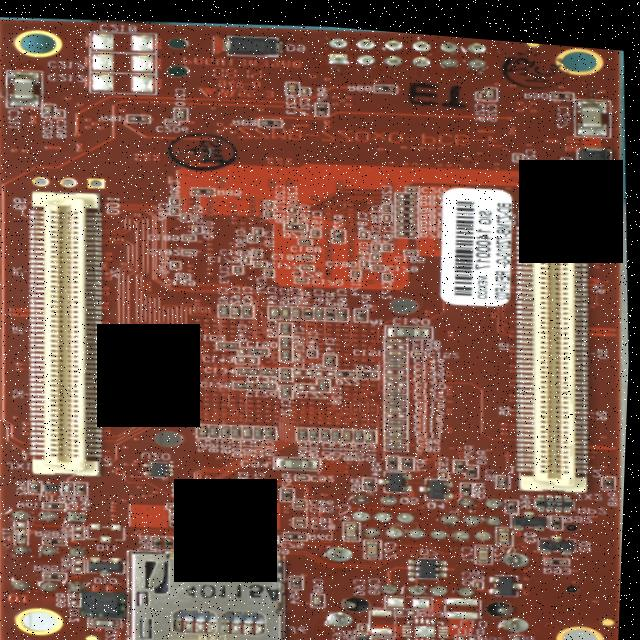-component text- -311 325 B330A-: (233, 32, 269, 48), (582, 141, 606, 162)
-component text- 000: (364, 629, 372, 637)
-component text- 161728: (91, 590, 121, 600)
-component text- 40115A: (188, 573, 288, 601)
-component text- 472: (548, 490, 568, 497)
-component text- MXJ: (200, 628, 235, 640)
-resistor jumper- JT7: (20, 520, 32, 543)
-resistor network- RP2: (537, 482, 579, 504)
2137: (291, 637, 314, 640)
2157: (361, 623, 375, 640)
2161: (517, 626, 528, 638)
2182: (297, 571, 306, 583)
2183: (48, 571, 70, 578)
2185: (156, 534, 167, 546)
2186: (167, 534, 178, 545)
2187: (49, 535, 70, 543)
2188: (259, 530, 270, 541)
2190: (290, 527, 310, 535)
2191: (48, 500, 69, 508)
2192: (32, 479, 46, 492)
2193: (66, 480, 78, 493)
2194: (80, 482, 89, 493)
2195: (368, 470, 379, 483)
2196: (511, 491, 521, 503)
2197: (286, 482, 298, 495)
2198: (606, 465, 619, 478)
2199: (469, 456, 481, 469)
2201: (459, 452, 470, 464)
2202: (405, 450, 417, 461)
2203: (340, 364, 359, 371)
2204: (360, 365, 381, 372)
2205: (306, 302, 316, 314)
2206: (329, 303, 338, 314)
2207: (357, 302, 368, 315)
2208: (334, 223, 346, 237)
2209: (399, 223, 418, 230)
2210: (288, 217, 308, 226)
2212: (399, 216, 418, 224)
2213: (398, 210, 418, 217)
2214: (398, 204, 419, 211)
2215: (399, 198, 419, 205)
2216: (398, 192, 418, 199)
2217: (194, 183, 215, 192)
2218: (398, 185, 418, 193)
2219: (318, 98, 328, 110)
2220: (377, 77, 397, 86)
2221: (261, 114, 281, 121)
2223: (552, 82, 573, 90)
2224: (130, 112, 148, 119)
2225: (556, 506, 566, 519)
2226: (550, 548, 573, 556)
2227: (392, 449, 401, 461)
2228: (465, 475, 476, 487)
2301: (217, 72, 265, 86)
2303: (507, 45, 563, 78)
2389: (176, 132, 230, 163)
2558: (472, 190, 520, 293)
2563: (238, 82, 278, 95)
2621: (237, 107, 507, 154)
2639: (11, 591, 35, 604)
2643: (212, 59, 267, 78)
2644: (511, 455, 521, 465), (23, 450, 33, 460)
2646: (105, 193, 123, 215), (589, 199, 607, 220)
2700: (105, 454, 118, 465), (595, 457, 607, 467)
2718: (501, 395, 515, 407), (15, 387, 28, 399)
2721: (596, 398, 613, 410), (111, 388, 125, 401)
2757: (599, 337, 613, 349), (110, 329, 124, 341)
2758: (13, 324, 28, 334), (500, 332, 513, 342)
2770: (14, 263, 27, 276)
2771: (594, 273, 609, 284), (112, 265, 125, 276)
2790: (13, 195, 31, 210)
2793: (372, 311, 387, 319)
2846: (234, 433, 247, 453)
2847: (245, 434, 258, 452)
2848: (256, 434, 270, 454)
2849: (267, 434, 280, 452)
2850: (300, 434, 313, 452)
2851: (311, 435, 323, 452)
2852: (324, 435, 337, 455)
2853: (335, 435, 347, 455)
2854: (346, 437, 358, 455)
2855: (356, 436, 370, 455)
2857: (368, 436, 382, 456)
2858: (418, 423, 447, 431)
2859: (416, 416, 448, 426)
2860: (416, 410, 448, 420)
2861: (135, 404, 166, 414)
2862: (417, 404, 449, 414)
2863: (133, 398, 166, 408)
2864: (417, 398, 450, 408)
2865: (133, 392, 165, 402)
2866: (417, 391, 449, 401)
2868: (133, 385, 166, 395)
2869: (283, 393, 296, 411)
2870: (418, 384, 451, 395)
2871: (133, 378, 165, 388)
2872: (417, 378, 449, 388)
2873: (203, 376, 235, 386), (487, 93, 500, 114)
2874: (249, 384, 281, 394), (474, 93, 488, 114)
2875: (299, 384, 331, 395)
2876: (334, 379, 347, 399)
2877: (132, 372, 165, 382)
2879: (418, 372, 450, 382)
2880: (132, 366, 163, 376)
2882: (417, 366, 449, 376)
2883: (207, 361, 239, 371)
2884: (249, 369, 282, 379)
2885: (297, 356, 325, 364)
2887: (132, 359, 165, 369)
2888: (416, 360, 448, 370)
2890: (130, 352, 165, 362)
2891: (326, 330, 339, 348)
2892: (416, 354, 448, 364)
2893: (205, 350, 237, 360)
2894: (132, 346, 166, 356)
2895: (296, 338, 310, 357)
2896: (416, 348, 449, 358)
2897: (129, 339, 163, 350)
2898: (238, 318, 252, 338)
2899: (309, 324, 323, 344)
2901: (248, 334, 281, 344)
2902: (355, 340, 385, 351)
2903: (431, 342, 463, 352)
2904: (197, 328, 229, 338)
2905: (129, 332, 164, 343)
2906: (296, 320, 310, 339)
2907: (414, 335, 445, 345)
2908: (130, 325, 164, 336)
2909: (415, 330, 445, 340)
2910: (268, 314, 281, 334)
2912: (396, 308, 434, 319)
2913: (218, 282, 232, 299)
2914: (231, 280, 244, 300)
2915: (243, 280, 257, 300)
2916: (268, 280, 281, 300)
2917: (280, 280, 294, 300)
2918: (292, 280, 304, 300)
2919: (314, 282, 328, 301)
2920: (338, 281, 351, 301)
2921: (166, 274, 199, 284)
2923: (313, 270, 347, 281)
2924: (257, 271, 270, 289)
2925: (383, 274, 396, 293)
2926: (220, 260, 233, 280)
2927: (351, 271, 365, 291)
2928: (159, 252, 172, 272)
2929: (293, 263, 326, 273)
2930: (271, 255, 302, 265)
2931: (390, 255, 422, 266)
2932: (209, 250, 242, 260)
2934: (327, 253, 359, 263)
2935: (273, 246, 301, 255)
2936: (151, 243, 183, 254)
2937: (222, 243, 253, 253)
2938: (359, 234, 372, 254)
2939: (395, 246, 429, 257)
2940: (371, 217, 385, 237)
2941: (384, 216, 396, 236)
2942: (292, 238, 325, 249)
2943: (148, 229, 182, 239)
2945: (236, 224, 249, 243)
2946: (265, 225, 278, 243)
2947: (204, 216, 217, 236)
2948: (313, 204, 326, 224)
2949: (357, 204, 371, 224)
2950: (193, 200, 206, 220)
2951: (300, 197, 314, 217)
2952: (158, 198, 171, 218)
2953: (277, 199, 288, 218)
2954: (372, 198, 383, 217)
2956: (422, 178, 448, 186)
2957: (288, 180, 301, 201)
2958: (170, 176, 183, 195)
2959: (275, 178, 289, 200)
2960: (382, 177, 396, 198)
2962: (525, 138, 539, 160)
2963: (157, 120, 191, 131)
2964: (556, 94, 573, 120)
2965: (56, 117, 70, 138)
2966: (42, 117, 56, 139)
2968: (175, 83, 188, 104)
2969: (7, 108, 23, 130)
2970: (47, 70, 87, 83)
2971: (285, 90, 299, 110)
2972: (299, 90, 312, 111)
2975: (48, 57, 87, 70)
2976: (99, 19, 139, 31)
2980: (109, 625, 123, 640)
3205: (376, 637, 403, 640)
3206: (356, 570, 372, 589)
3207: (335, 620, 349, 636)
3208: (316, 571, 330, 588)
3209: (371, 569, 387, 589)
3211: (465, 561, 478, 577)
3212: (464, 536, 479, 554)
3213: (387, 533, 403, 553)
3214: (223, 529, 236, 546)
3215: (239, 541, 265, 549)
3216: (284, 534, 311, 544)
3217: (341, 496, 357, 515)
3218: (498, 537, 512, 553)
3219: (315, 516, 341, 524)
3220: (210, 519, 236, 528)
3222: (174, 517, 198, 525)
3223: (314, 509, 338, 518)
3224: (189, 504, 211, 512)
3225: (211, 497, 237, 506)
3226: (185, 497, 210, 506)
3227: (313, 498, 339, 508)
3228: (313, 492, 339, 501)
3229: (219, 474, 233, 490)
3230: (240, 466, 254, 482)
3231: (174, 479, 187, 495)
3233: (257, 466, 270, 482)
3234: (487, 459, 500, 473)
3235: (314, 467, 340, 477)
3236: (440, 447, 453, 463)
3237: (244, 452, 274, 464)
3238: (419, 436, 446, 445)
3239: (419, 429, 445, 438)
3240: (201, 433, 212, 449)
3241: (211, 433, 224, 449)
3242: (223, 434, 236, 450)
3270: (98, 573, 124, 583)
3271: (100, 540, 124, 550)
3272: (72, 605, 86, 621)
3291: (477, 559, 490, 572)
3292: (423, 538, 445, 548)
3293: (559, 145, 575, 159)
3294: (285, 37, 307, 47)
3356: (406, 70, 470, 105)
3497: (5, 524, 19, 540)
3515: (291, 619, 314, 629)
3552: (7, 459, 36, 470)
3553: (577, 480, 608, 492)
3562: (463, 608, 494, 620)
3689: (182, 46, 305, 70)
3755: (581, 529, 597, 543)
3756: (527, 521, 542, 534)
3757: (430, 491, 452, 502)
3758: (405, 488, 425, 498)
4103: (317, 636, 343, 640)
4123: (347, 622, 360, 638)
4128: (529, 626, 543, 639)
4137: (486, 625, 512, 635)
4145: (425, 601, 449, 610)
4151: (291, 583, 307, 599)
4152: (38, 561, 64, 571)
4153: (141, 531, 155, 547)
4154: (180, 533, 194, 548)
4155: (40, 528, 64, 536)
4156: (269, 541, 295, 550)
4158: (313, 526, 338, 535)
4159: (21, 499, 43, 509)
4160: (18, 479, 32, 495)
4161: (70, 493, 84, 509)
4162: (83, 493, 97, 510)
4163: (353, 471, 366, 487)
4164: (523, 483, 536, 501)
4165: (284, 467, 297, 482)
4166: (609, 479, 623, 495)
4167: (479, 440, 493, 457)
4169: (466, 436, 479, 451)
4170: (418, 450, 432, 464)
4171: (339, 371, 364, 380)
4172: (358, 356, 384, 365)
4173: (303, 284, 315, 300)
4174: (326, 285, 340, 301)
4175: (362, 286, 376, 302)
4176: (334, 207, 348, 223)
4177: (423, 222, 447, 231)
4178: (285, 225, 311, 233)
4180: (422, 216, 447, 225)
4181: (422, 210, 444, 219)
4182: (422, 204, 446, 212)
4183: (422, 198, 446, 206)
4184: (422, 191, 446, 199)
4185: (218, 183, 245, 193)
4186: (422, 185, 446, 193)
4187: (316, 80, 331, 96)
4188: (348, 77, 373, 87)
4189: (233, 114, 259, 122)
4191: (523, 81, 550, 90)
4192: (101, 112, 123, 120)
4193: (568, 502, 598, 514)
4194: (546, 554, 577, 566)
4195: (373, 453, 387, 470)
4196: (477, 472, 492, 491)
4198: (64, 555, 78, 570)
4199: (65, 521, 77, 536)
4200: (59, 590, 72, 606)
4227: (580, 494, 613, 506)
4350: (461, 617, 491, 628)
4351: (43, 493, 71, 501)
4353: (144, 447, 176, 459)
4425: (173, 413, 199, 422)
4443: (541, 523, 581, 547)
4444: (513, 500, 553, 524)
4445: (423, 470, 459, 494)
4447: (382, 461, 417, 488)
capacitor: (283, 362, 295, 375)
capacitor C101: (234, 421, 245, 433)
capacitor C102: (245, 422, 256, 434)
capacitor C103: (256, 422, 267, 433)
capacitor C104: (268, 422, 278, 434)
capacitor C105: (301, 423, 312, 434)
capacitor C106: (312, 423, 323, 434)
capacitor C107: (323, 423, 334, 435)
capacitor C108: (335, 423, 345, 435)
capacitor C109: (346, 424, 356, 436)
capacitor C11: (357, 424, 367, 435)
capacitor C111: (369, 423, 378, 435)
capacitor C112: (390, 423, 410, 431)
capacitor C113: (389, 417, 409, 424)
capacitor C114: (389, 411, 409, 418)
capacitor C115: (169, 404, 189, 412)
capacitor C117: (169, 398, 189, 406)
capacitor C118: (389, 398, 409, 405)
capacitor C119: (168, 392, 188, 400)
capacitor C12: (389, 392, 409, 399)
capacitor C121: (168, 385, 188, 393)
capacitor C122: (284, 380, 294, 392)
capacitor C123: (389, 386, 409, 393)
capacitor C124: (168, 379, 188, 387)
capacitor C125: (389, 380, 409, 387)
capacitor C126: (238, 377, 258, 385)
capacitor C127: (259, 377, 279, 385)
capacitor C129: (321, 373, 332, 385)
capacitor C13: (168, 373, 188, 381)
capacitor C132: (168, 366, 188, 375)
capacitor C134: (389, 367, 409, 374)
capacitor C135: (241, 362, 261, 370)
capacitor C136: (261, 363, 281, 371)
capacitor C139: (168, 360, 188, 368)
capacitor C141: (167, 354, 188, 362)
capacitor C142: (328, 348, 337, 361)
capacitor C143: (388, 355, 408, 362)
capacitor C145: (168, 347, 188, 356)
capacitor C146: (283, 343, 295, 356)
capacitor C147: (389, 349, 409, 356)
capacitor C148: (168, 341, 188, 350)
capacitor C149: (241, 344, 247, 349)
capacitor C15: (311, 345, 319, 351)
capacitor C151: (250, 343, 270, 350)
capacitor C152: (388, 342, 408, 350)
capacitor C153: (416, 343, 427, 348)
capacitor C154: (220, 337, 241, 345)
capacitor C155: (167, 335, 188, 343)
capacitor C156: (283, 331, 294, 344)
capacitor C158: (168, 329, 188, 337)
capacitor C159: (388, 329, 408, 337)
capacitor C16: (283, 318, 294, 329)
capacitor C161: (390, 317, 434, 332)
capacitor C162: (221, 300, 233, 313)
capacitor C163: (233, 300, 244, 313)
capacitor C164: (244, 300, 255, 312)
capacitor C165: (272, 301, 283, 313)
capacitor C166: (283, 301, 294, 313)
capacitor C167: (295, 301, 305, 313)
capacitor C168: (316, 302, 327, 314)
capacitor C169: (339, 302, 349, 313)
capacitor C17: (179, 269, 192, 275)
capacitor C171: (299, 272, 309, 277)
capacitor C172: (269, 265, 275, 271)
capacitor C173: (385, 267, 392, 273)
capacitor C174: (236, 262, 244, 268)
capacitor C175: (355, 264, 361, 270)
capacitor C176: (173, 259, 181, 265)
capacitor C178: (256, 256, 269, 261), (304, 259, 314, 265)
capacitor C179: (375, 258, 385, 263)
capacitor C18: (244, 252, 252, 259)
capacitor C181: (364, 254, 370, 261)
capacitor C182: (304, 249, 315, 255)
capacitor C183: (186, 246, 197, 252)
capacitor C184: (256, 245, 263, 251)
capacitor C185: (374, 247, 380, 254)
capacitor C186: (408, 242, 418, 248)
capacitor C187: (375, 237, 381, 243)
capacitor C188: (385, 238, 393, 244)
capacitor C189: (302, 233, 312, 238)
capacitor C19: (184, 231, 196, 237)
capacitor C191: (252, 231, 258, 237)
capacitor C192: (257, 223, 263, 230)
capacitor C193: (196, 222, 203, 229)
capacitor C194: (315, 224, 321, 230)
capacitor C195: (362, 225, 369, 231)
capacitor C196: (184, 211, 192, 217)
capacitor C197: (292, 211, 298, 217)
capacitor C198: (173, 204, 179, 211)
capacitor C199: (266, 205, 275, 212)
capacitor C2: (386, 208, 392, 214)
capacitor C200: (408, 179, 419, 185)
capacitor C201: (291, 201, 299, 208)
capacitor C202: (173, 194, 180, 201)
capacitor C203: (267, 195, 275, 202)
capacitor C204: (385, 198, 392, 204)
capacitor C206: (516, 145, 523, 151)
capacitor C207: (167, 115, 179, 121)
capacitor C208: (576, 88, 610, 127)
capacitor C209: (58, 109, 64, 115)
capacitor C21: (44, 102, 56, 116)
capacitor C211: (177, 105, 188, 117)
capacitor C212: (8, 68, 43, 108)
capacitor C214: (288, 77, 298, 90)
capacitor C215: (303, 83, 309, 89)
capacitor C216: (486, 79, 496, 91)
capacitor C217: (478, 84, 484, 90)
capacitor C222: (95, 614, 125, 626)
capacitor C68: (364, 618, 371, 624)
capacitor C69: (317, 588, 328, 602)
capacitor C71: (480, 573, 485, 579)
capacitor C72: (481, 536, 495, 554)
capacitor C73: (370, 533, 384, 551)
capacitor C74: (237, 527, 249, 540)
capacitor C75: (249, 530, 256, 537)
capacitor C76: (274, 531, 281, 537)
capacitor C77: (349, 515, 363, 533)
capacitor C78: (503, 518, 516, 536)
capacitor C79: (299, 516, 310, 521)
capacitor C8: (213, 514, 223, 520)
capacitor C81: (176, 511, 186, 517)
capacitor C82: (299, 512, 310, 518)
capacitor C83: (175, 505, 187, 510)
capacitor C84: (213, 506, 223, 510)
capacitor C85: (172, 500, 182, 506)
capacitor C86: (298, 498, 309, 503)
capacitor C87: (299, 494, 309, 499)
capacitor C88: (221, 490, 229, 497)
capacitor C89: (242, 482, 253, 494)
capacitor C9: (188, 483, 195, 490)
capacitor C91: (260, 483, 268, 489)
capacitor C92: (503, 466, 512, 479)
capacitor C93: (300, 468, 312, 474)
capacitor C94: (444, 464, 450, 470)
capacitor C95: (279, 450, 323, 465)
capacitor C96: (390, 436, 410, 444)
capacitor C97: (390, 430, 410, 437)
capacitor C98: (201, 421, 211, 433)
capacitor C99: (212, 421, 223, 433)
capacitor CA7: (223, 422, 234, 433)
connector: (31, 170, 111, 191)
connector J7: (127, 538, 296, 640)
connector JX2: (18, 186, 120, 478)
connector KEY1: (506, 193, 603, 486)
diode D11: (87, 588, 125, 613)
diode D12: (90, 552, 131, 576)
diode D7: (491, 563, 529, 589)
diode D8: (412, 549, 453, 574)
diode D9: (574, 133, 615, 172)
diode TVS1: (223, 26, 285, 55)
ic U19: (47, 480, 65, 492)
ic U20: (146, 456, 180, 476)
pads C115: (390, 405, 410, 411)
pads C127: (300, 377, 321, 386)
pads C130: (389, 374, 409, 380)
pads C136: (297, 362, 317, 370)
pads C139: (389, 361, 410, 368)
pads C143: (241, 351, 261, 359)
pads C156: (389, 336, 410, 343)
pads C212: (91, 68, 156, 93)
pads C217: (92, 48, 155, 73)
pads C218: (91, 27, 156, 53)
pads C65: (377, 631, 397, 638)
pads C66: (375, 601, 399, 629)
pads C69: (390, 587, 436, 603)
pads D11: (89, 518, 133, 541)
pads L10: (449, 586, 485, 613)
pads R48: (419, 640, 439, 640)
pads R49: (443, 640, 463, 640)
pads R52: (462, 626, 483, 635)
pads R53: (401, 601, 421, 609)
pads R97: (77, 556, 88, 571)
pads R98: (78, 524, 88, 537)
pads R99: (74, 591, 84, 604)
pads U18: (405, 608, 455, 639)
pads unknown: (318, 364, 338, 371)
pins unknown: (326, 23, 490, 69), (355, 496, 509, 542), (383, 571, 480, 593), (15, 505, 92, 525), (15, 574, 91, 594), (15, 539, 91, 559), (354, 484, 403, 501), (460, 487, 508, 502), (503, 605, 538, 625), (329, 602, 361, 622), (328, 538, 359, 558), (507, 540, 534, 559)
